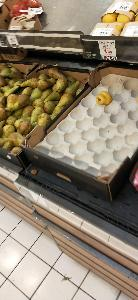pear: (0, 66, 86, 152), (37, 113, 51, 129)
